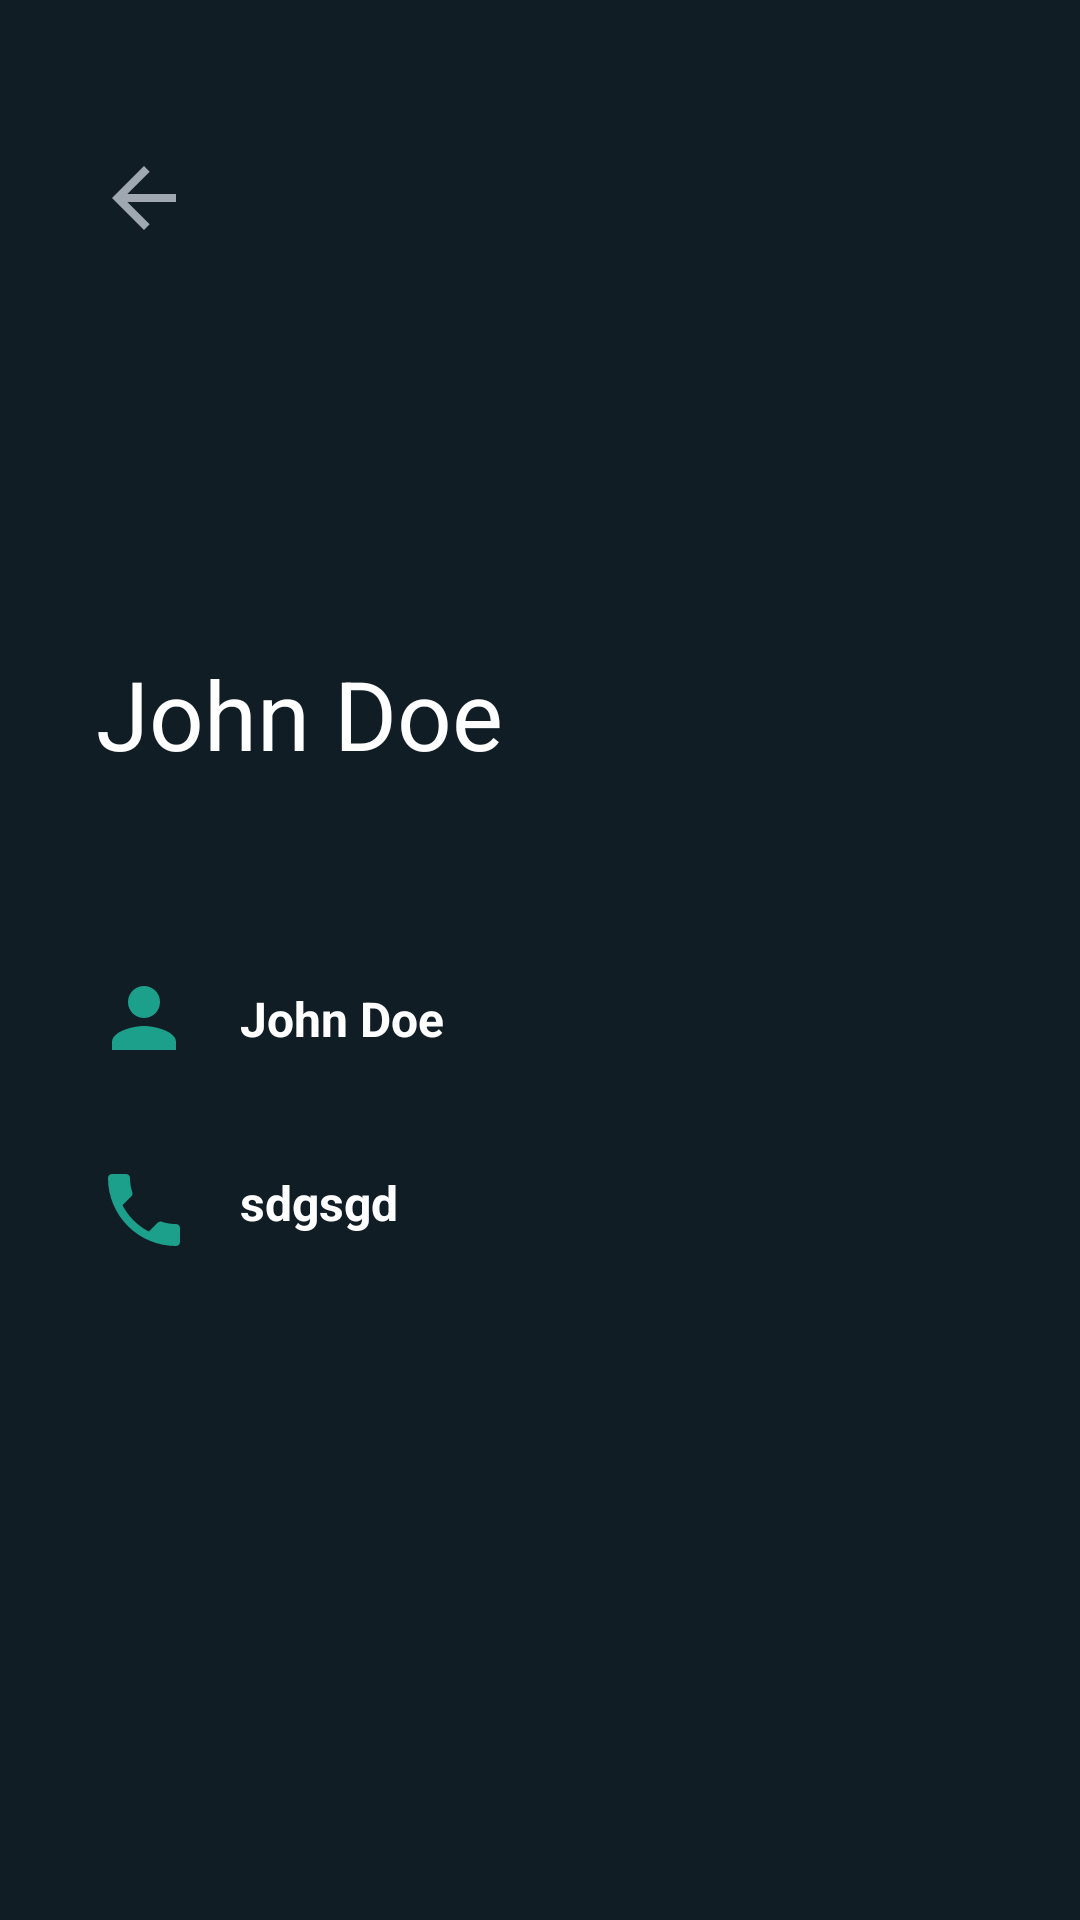

Where icons sit on this 1080px x 1920px app screen, as (x1, y1, x2, y2):
back: (112, 166, 176, 230)
person: (112, 986, 176, 1050)
phone: (108, 1174, 180, 1246)
